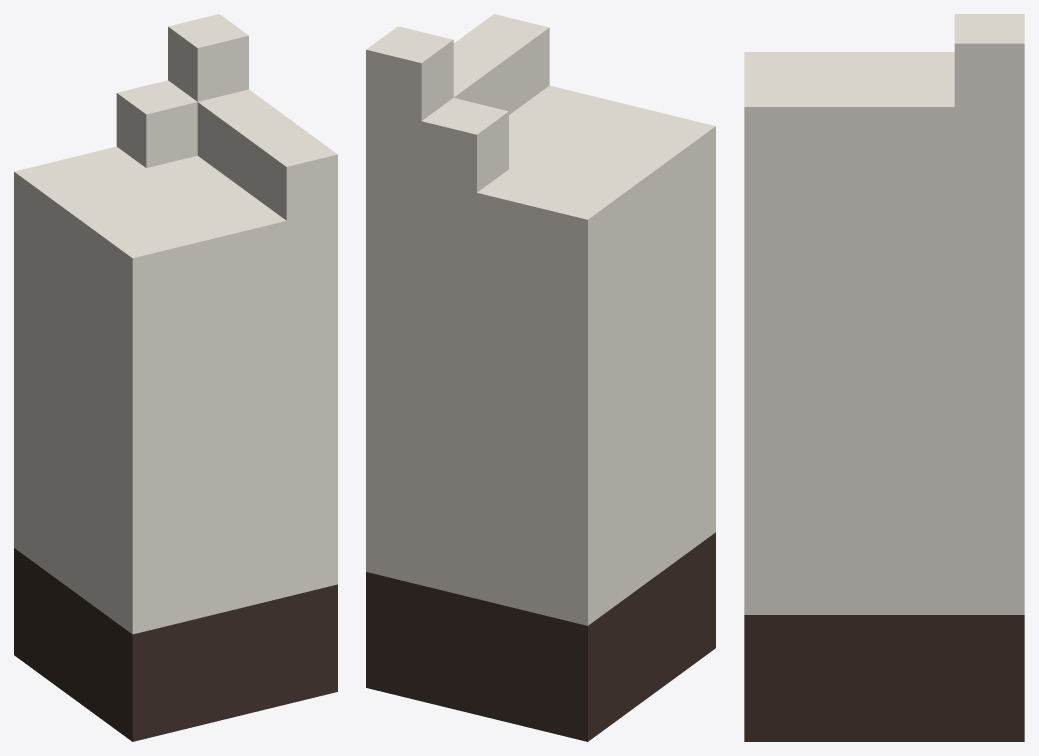
File: cow__leg_bl.glb
3 views of the same model, side by side, from view 1: azimuth 30°, elevation 25°; view 2: azimuth 150°, elevation 25°; view 3: azimuth 270°, elevation 25° (orthographic). The views are drawn at different scales.
Parts seen in each view (by area): view 1: cow__leg_bl; view 2: cow__leg_bl; view 3: cow__leg_bl.
Boxes of the visible parts, x1,y1,x2,y2 form: cow__leg_bl: (14, 14, 337, 741); cow__leg_bl: (366, 14, 715, 741); cow__leg_bl: (744, 14, 1024, 741).
Size of the model in its own units: 0.4 by 1.1 by 0.4.
Materials: 1 (1 with a texture image).
